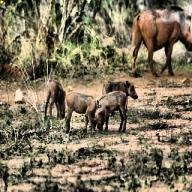boar: (130, 3, 192, 78)
